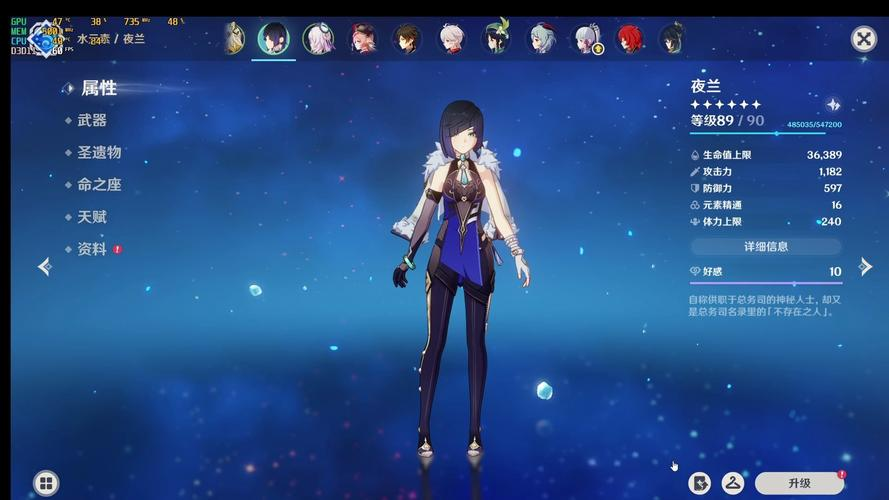夜兰: (388, 93, 536, 473)
